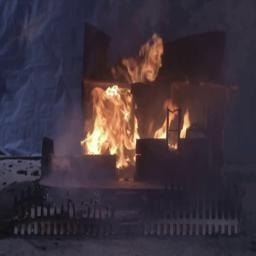fire: (83, 34, 177, 170)
